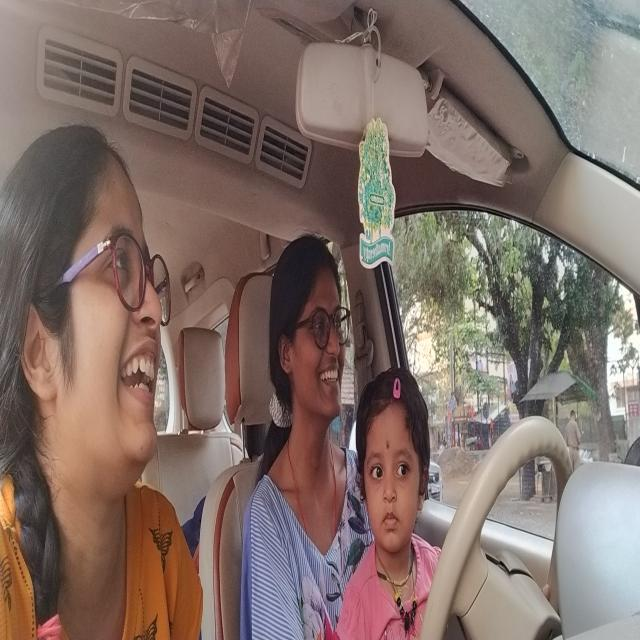person: (0, 121, 179, 516), (268, 225, 355, 448)
talking: (354, 368, 436, 560)
